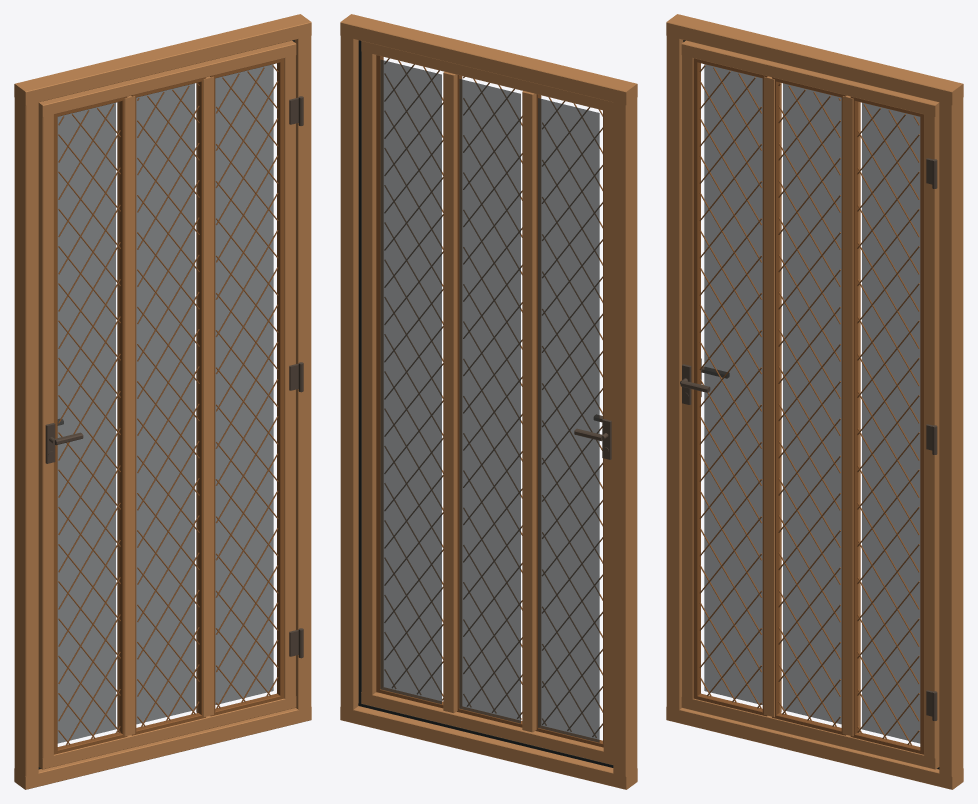
File: wood-finish-side-panel-screen-door-02.glb
3 renders of one model, left to right at view 1: azimuth 30°, elevation 25°; view 2: azimuth 150°, elevation 25°; view 3: azimuth 330°, elevation 25°, orthographic.
Visible parts, largest first — view 1: Outer jamb, Panel 2 insect mesh, Panel 3 insect mesh, Panel 1 insect mesh, Door leaf, Vertical mullions, Panel 3 trim, Panel 1 trim, Panel 2 security grille, Panel 3 security grille, Panel 1 security grille, Panel 2 trim (+2 smaller); view 2: Outer jamb, Panel 2 insect mesh, Panel 3 insect mesh, Panel 1 insect mesh, Door leaf, Vertical mullions, Panel 3 trim, Panel 1 security grille, Panel 3 security grille, Panel 2 security grille, Panel 1 trim, Panel 2 trim (+1 smaller); view 3: Outer jamb, Panel 2 insect mesh, Panel 3 insect mesh, Panel 1 insect mesh, Door leaf, Vertical mullions, Panel 3 trim, Panel 1 trim, Panel 2 security grille, Panel 3 security grille, Panel 1 security grille, Panel 2 trim (+2 smaller).
Boxes of the visible parts, x1,y1,x2,y2 form: Outer jamb: (14,14,311,789); Panel 2 insect mesh: (136,83,194,724); Panel 3 insect mesh: (215,64,273,704); Panel 1 insect mesh: (57,102,115,743); Door leaf: (38,40,296,769); Vertical mullions: (117,76,213,736); Panel 3 trim: (210,58,284,716); Panel 1 trim: (54,96,127,754); Panel 2 security grille: (137,83,199,727); Panel 3 security grille: (215,65,278,708); Panel 1 security grille: (58,104,120,745); Panel 2 trim: (131,77,205,735); Outer jamb: (340,14,637,789); Panel 2 insect mesh: (459,79,520,723); Panel 3 insect mesh: (380,59,441,704); Panel 1 insect mesh: (538,98,599,742); Door leaf: (361,41,613,764); Vertical mullions: (443,71,536,732); Panel 3 trim: (376,55,443,708); Panel 1 security grille: (542,97,602,737); Panel 3 security grille: (384,58,443,700); Panel 2 security grille: (463,76,522,719); Panel 1 trim: (535,94,603,747); Panel 2 trim: (457,75,522,727); Outer jamb: (666,14,963,789); Panel 2 insect mesh: (783,83,841,724); Panel 3 insect mesh: (862,102,920,743); Panel 1 insect mesh: (704,64,762,704); Door leaf: (681,40,939,769); Vertical mullions: (764,76,860,736); Panel 3 trim: (850,96,923,754); Panel 1 trim: (693,58,767,716); Panel 2 security grille: (778,83,840,727); Panel 3 security grille: (857,104,919,745); Panel 1 security grille: (699,65,762,708); Panel 2 trim: (772,77,846,735).
Bounding box in the file's own units: 0.9 × 2.1 × 0.123.
